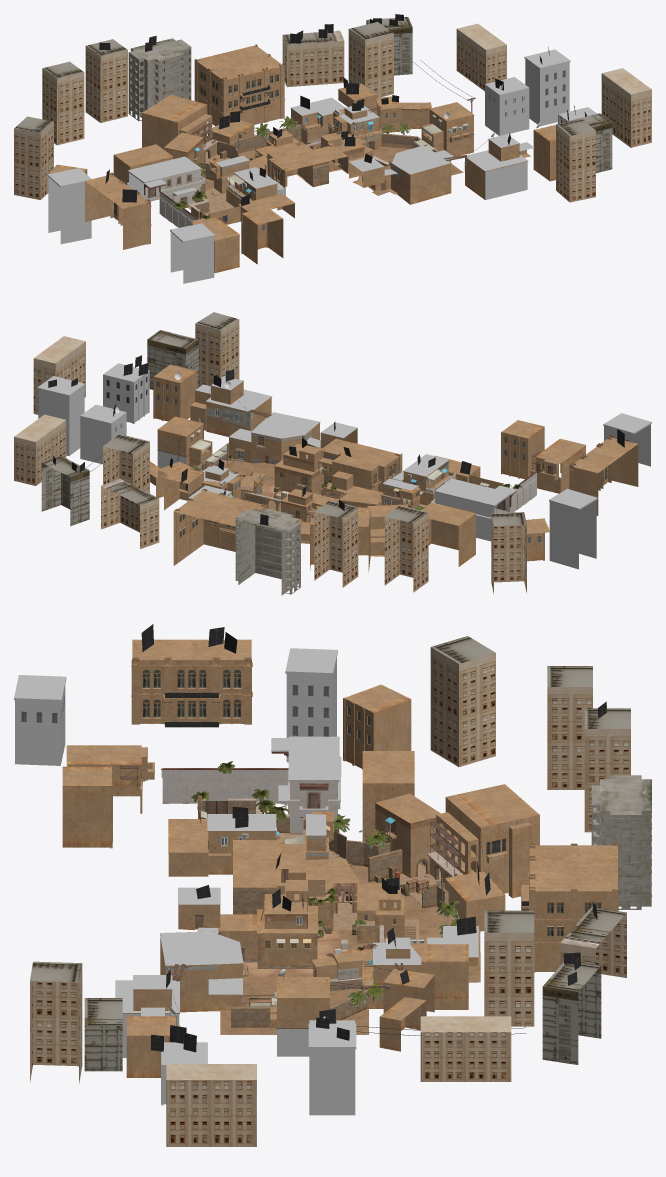
The model's file is map.glb.
3 renders of one model, top to bottom at view 1: azimuth 30°, elevation 25°; view 2: azimuth 150°, elevation 25°; view 3: azimuth 270°, elevation 25°, orthographic. The views are drawn at different scales.
Visible parts, largest first — view 1: 1_Sandstone_d2_0, Sandyards, 1_wall1_0, 1_Material #19859_0, D; view 2: 1_Sandstone_d2_0, 1_wall1_0, Sandyards, 1_Material #19859_0, D; view 3: 1_Sandstone_d2_0, Sandyards, 1_wall1_0, 1_Material #19859_0, D.
Part boxes in pixels (left/top/right/bottom): 1_Sandstone_d2_0: left=14, top=17, right=651, bottom=202; Sandyards: left=114, top=60, right=565, bottom=230; 1_wall1_0: left=47, top=44, right=555, bottom=273; 1_Material #19859_0: left=47, top=49, right=597, bottom=283; D: left=99, top=14, right=586, bottom=219; 1_Sandstone_d2_0: left=14, top=312, right=526, bottom=595; 1_wall1_0: left=150, top=364, right=638, bottom=580; Sandyards: left=86, top=372, right=628, bottom=564; 1_Material #19859_0: left=37, top=363, right=651, bottom=569; D: left=48, top=355, right=624, bottom=525; 1_Sandstone_d2_0: left=30, top=636, right=651, bottom=1146; Sandyards: left=21, top=669, right=601, bottom=1035; 1_wall1_0: left=62, top=639, right=618, bottom=1077; 1_Material #19859_0: left=14, top=648, right=478, bottom=1115; D: left=141, top=624, right=643, bottom=1052.
Size of the model in its own units: 1.48 by 0.2528 by 0.9539.
8 materials, 6 textured.
